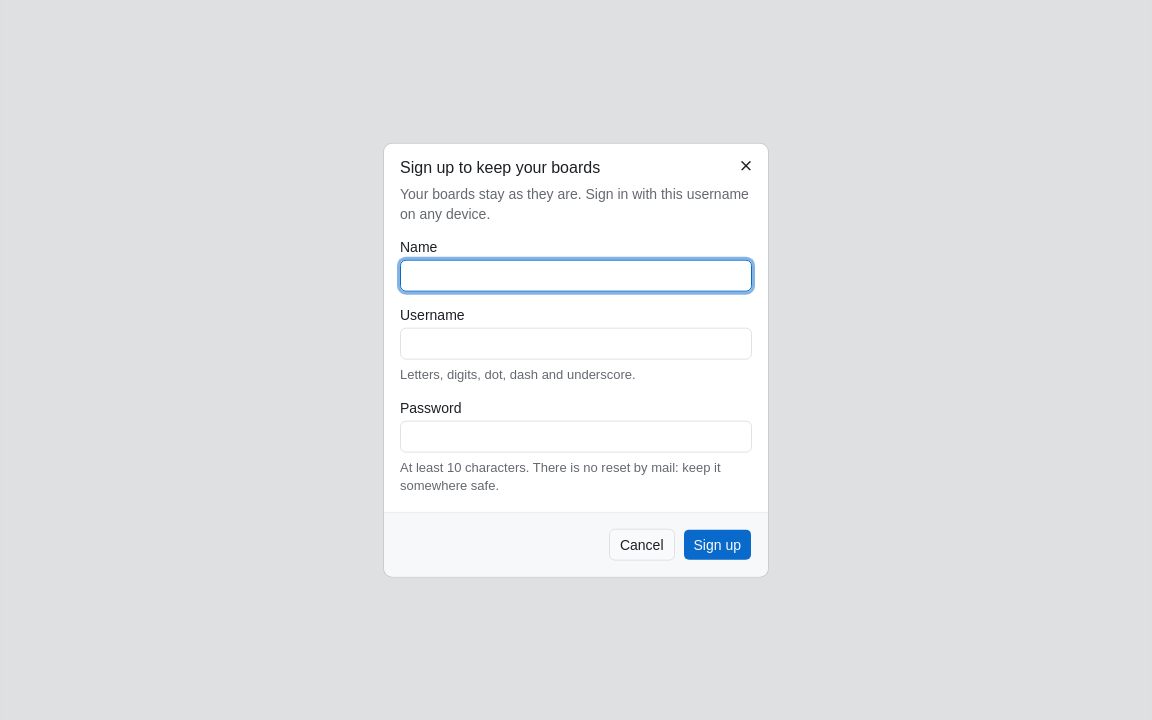
it: a taken username stays on the form
Type "Ann Lee " into the field labelled "Name" at (576, 276), box [400,260,752,292]
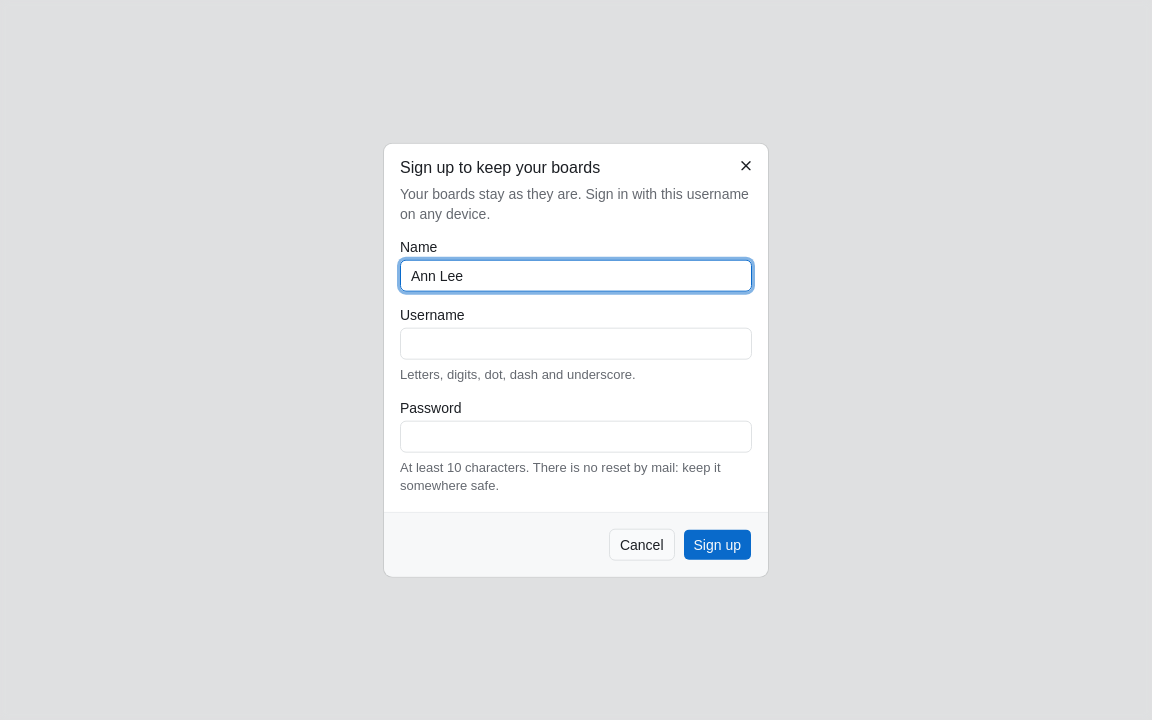
Type " ann" into the field labelled "Username" at (576, 344), box [400,328,752,360]
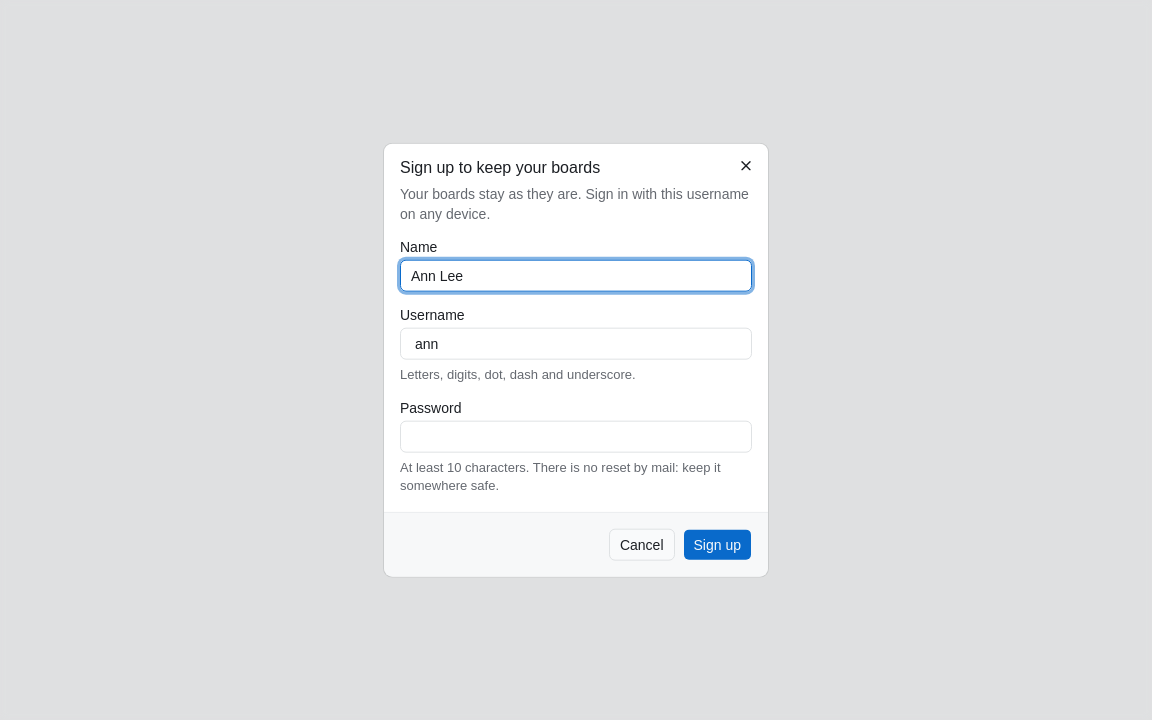
Type "long-enough-password" into the password field labelled "Password" at (576, 436), box [400,420,752,452]
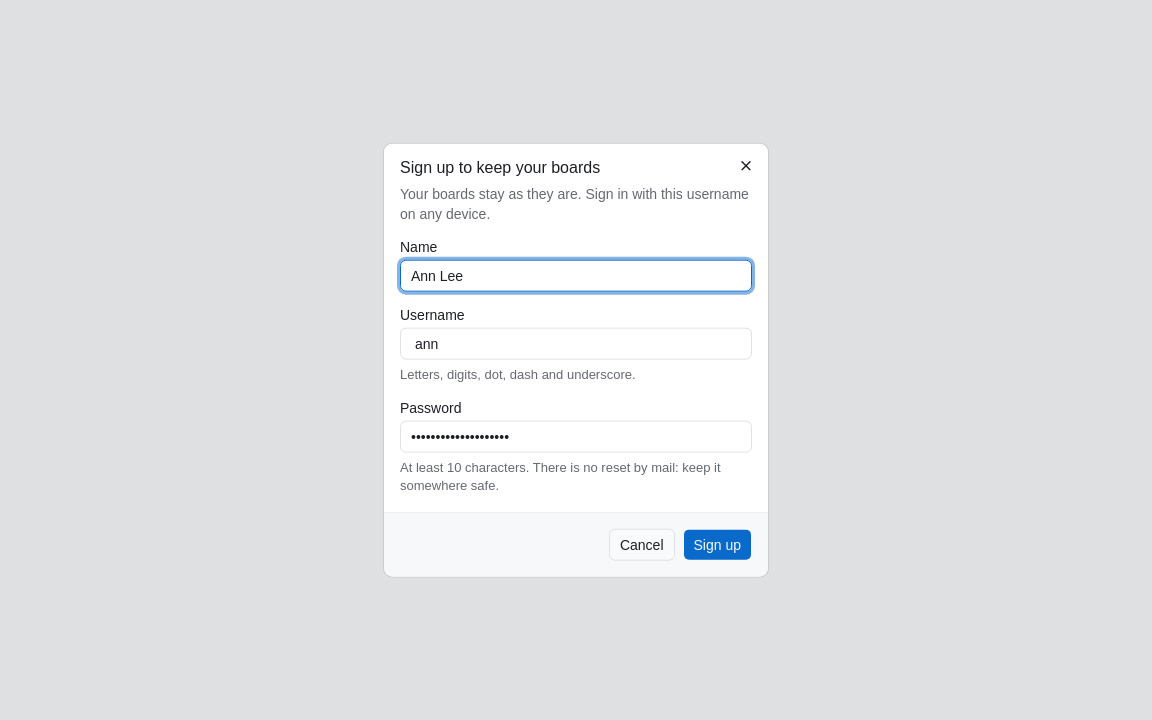
Click the button "Sign up" at (717, 544), box [682,528,752,560]
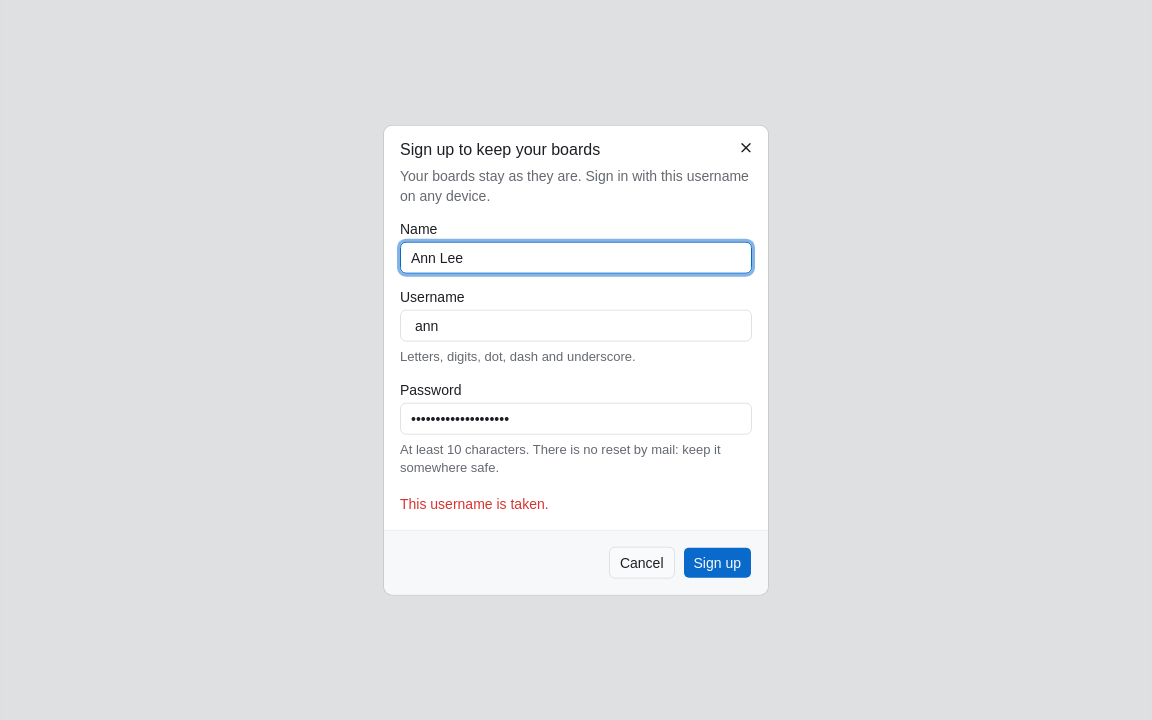
Expected: the text "This username is taken." is shown, [400,495,549,511]
